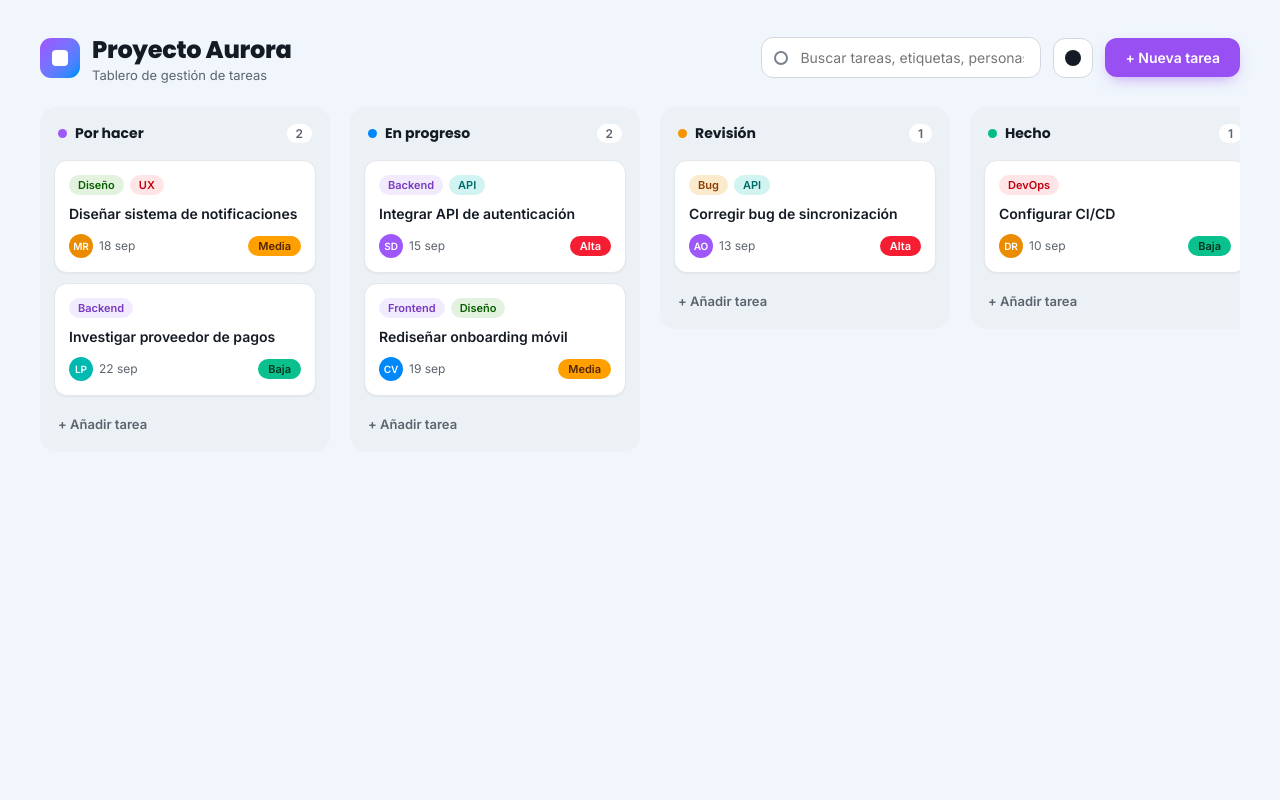
Scenario: create task › creates a card with defaults for blank assignee/due and parses tags
This screenshot has width=1280, height=800.
Click the button "+ Nueva tarea": (1173, 58) [1105, 38, 1240, 77]
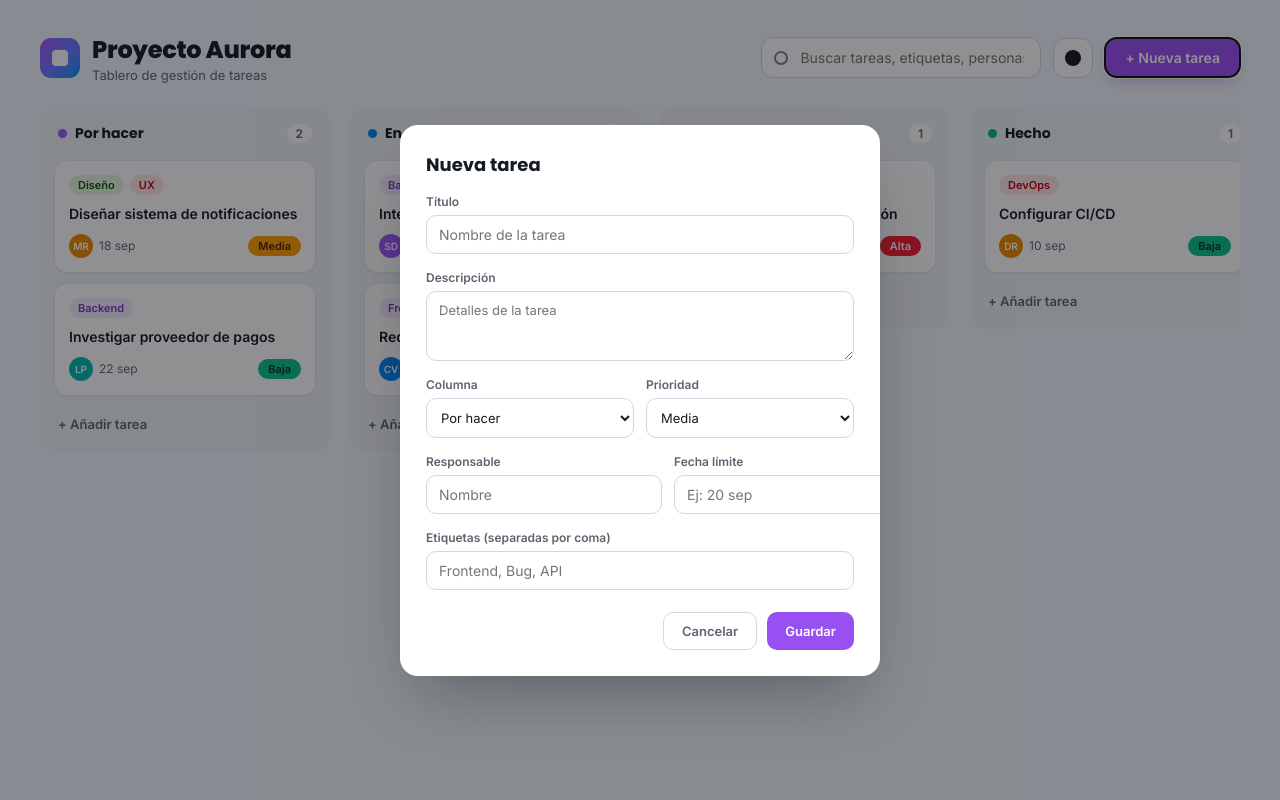
In the field with placeholder "Nombre de la tarea": (640, 234) [426, 214, 854, 254], type "Tarea nueva"
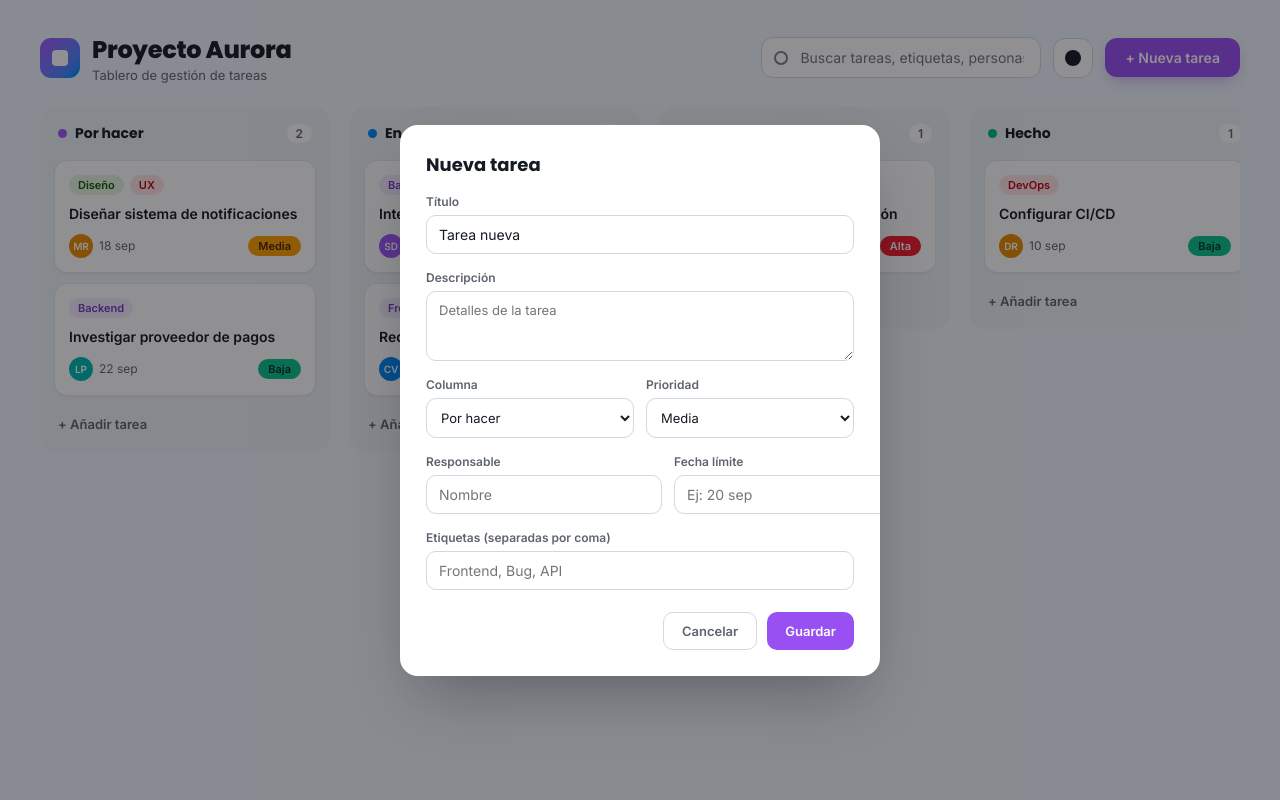
In the field with placeholder "Frontend, Bug, API": (640, 570) [426, 550, 854, 590], type " Frontend ,, Bug "
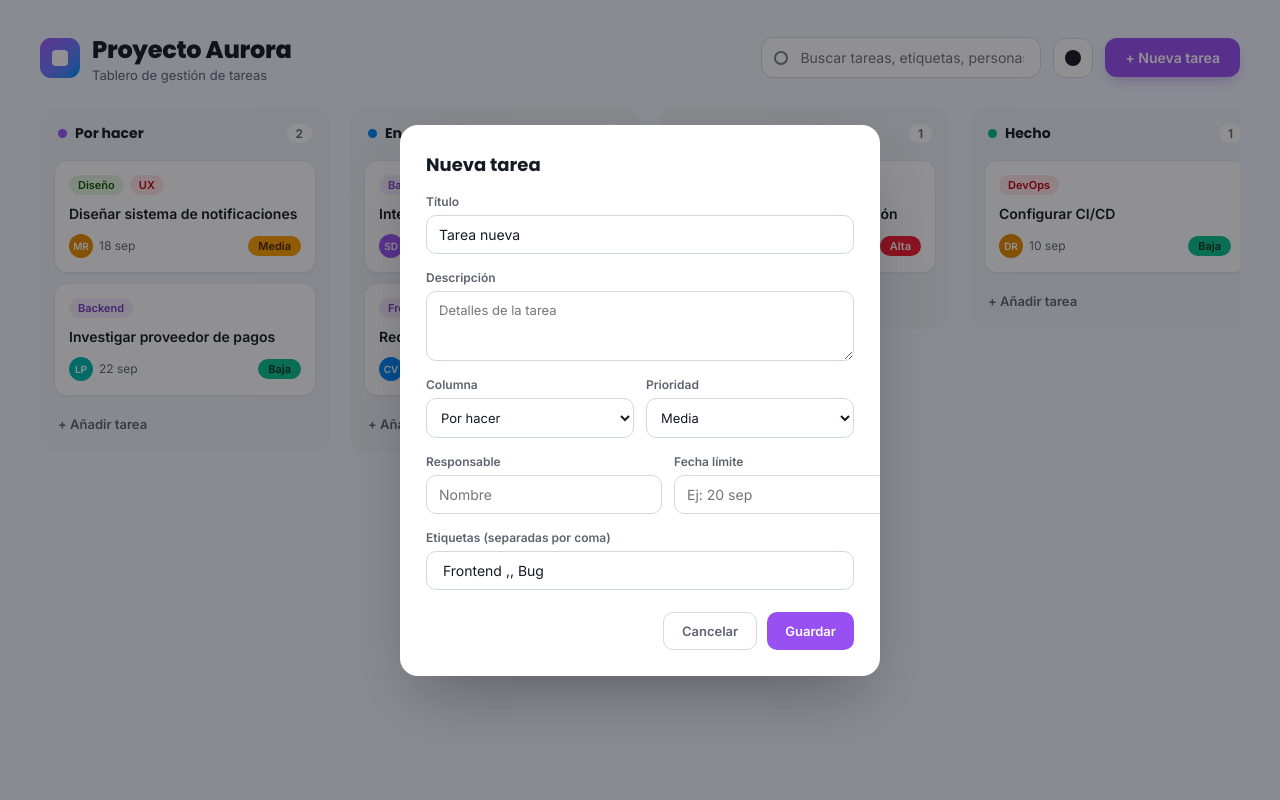
Click the button "Guardar": (811, 630) [767, 612, 854, 650]
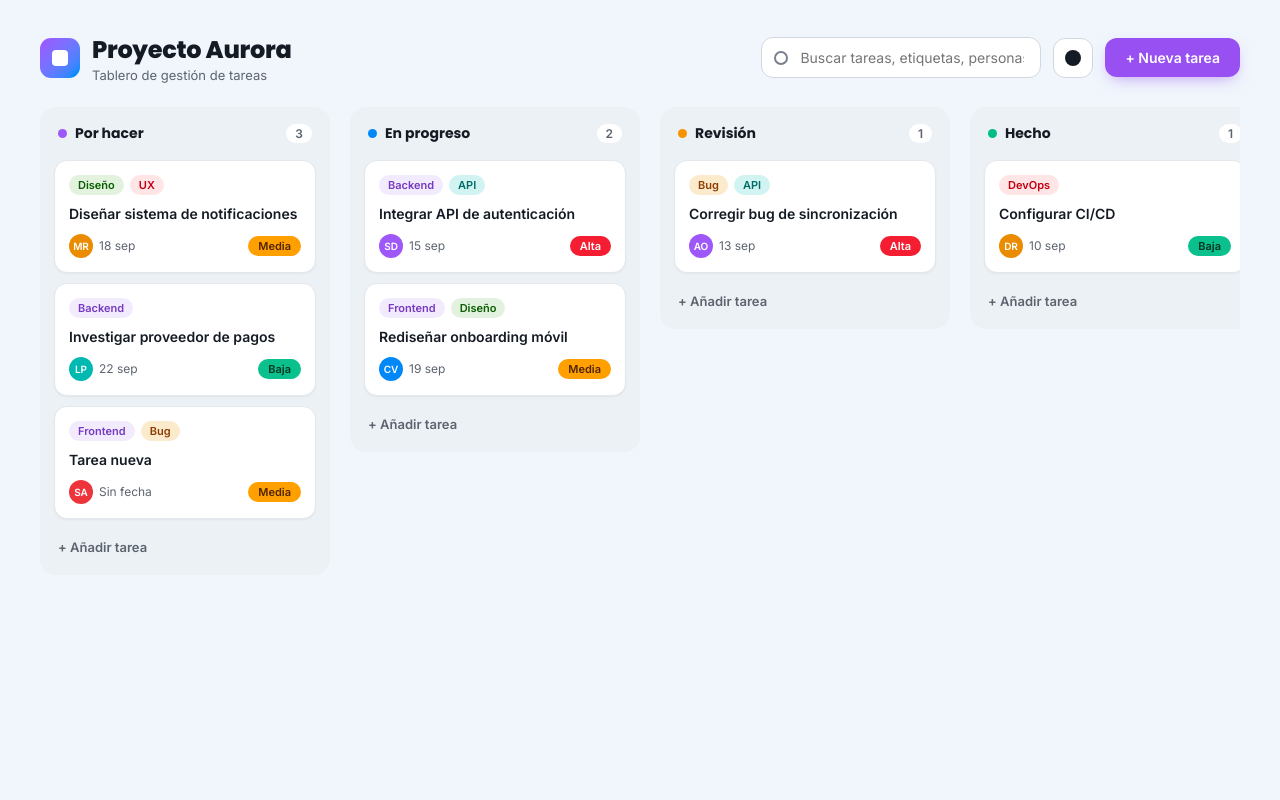
Expected: the text "SA" is shown, [69, 480, 93, 504]
Expected: the text "Sin fecha" is shown, [99, 484, 152, 499]
Expected: the text "Frontend" below "22 sep" is shown, [78, 424, 126, 438]
